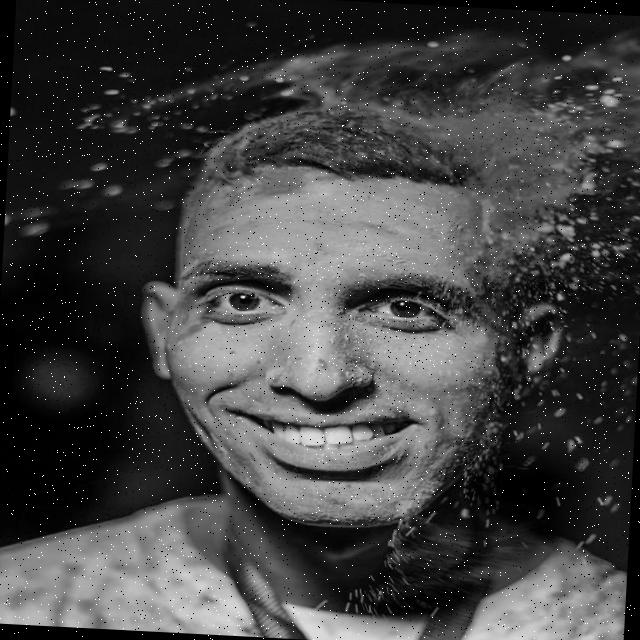Happiness: (156, 156, 523, 544)
